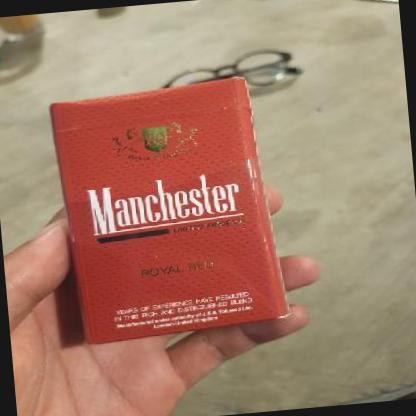objects: (49, 75, 290, 346)
